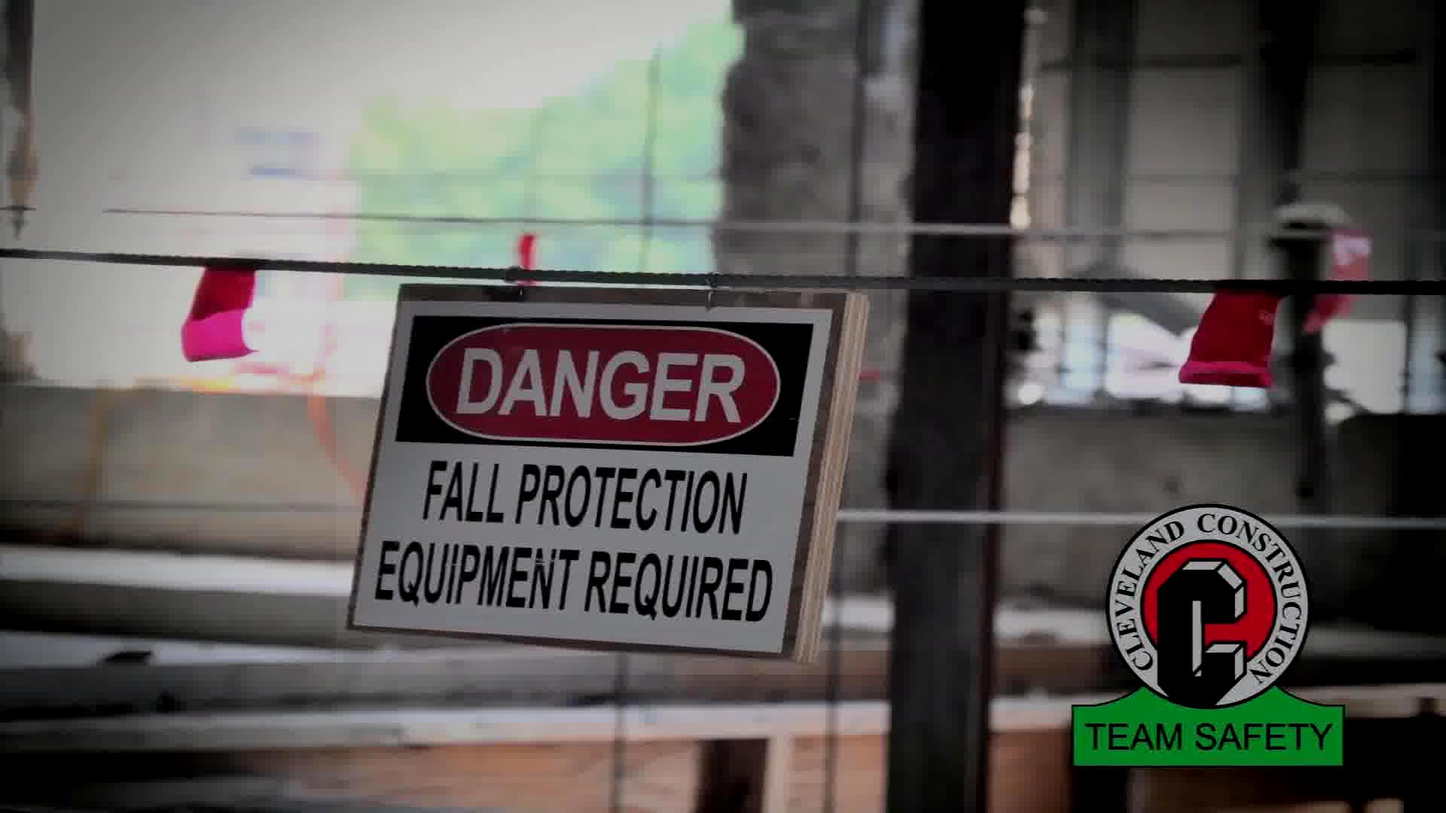safety_signage: (336, 254, 887, 674)
